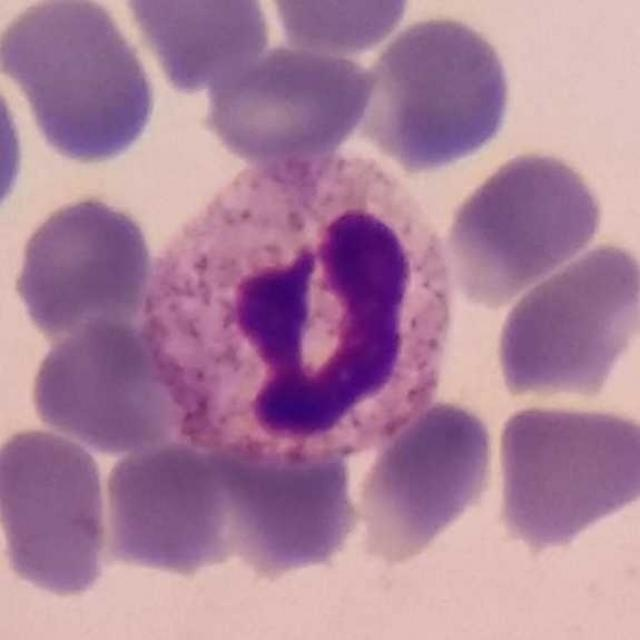Neutrophil: (129, 147, 471, 472)
RBC: (352, 11, 518, 174), (2, 1, 163, 167), (442, 144, 609, 300), (350, 395, 501, 562), (491, 237, 640, 405), (488, 396, 640, 550), (198, 40, 377, 169), (24, 315, 182, 455), (9, 190, 157, 335), (0, 423, 116, 601), (99, 438, 235, 578), (235, 456, 358, 576), (121, 0, 273, 93), (0, 0, 124, 86), (262, 0, 415, 57), (0, 56, 30, 229)
